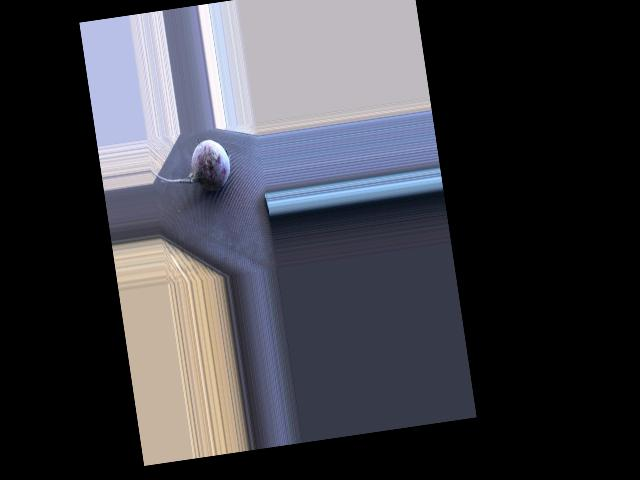beet: (148, 137, 233, 199)
